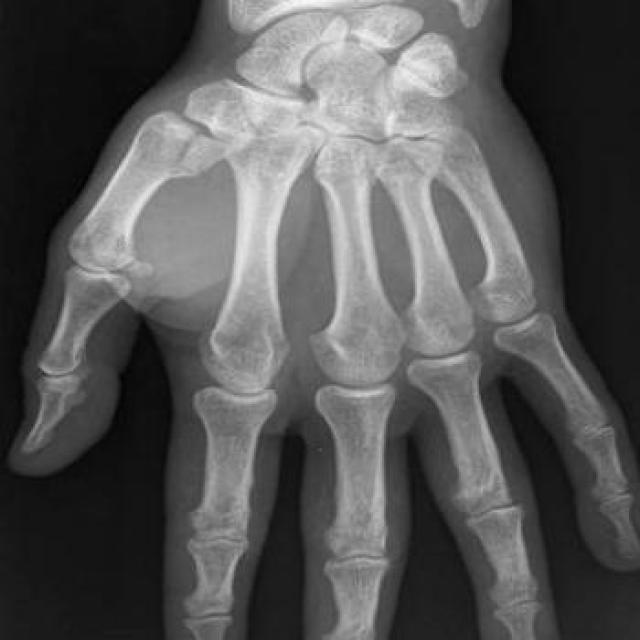Fracture: (177, 115, 233, 187)
